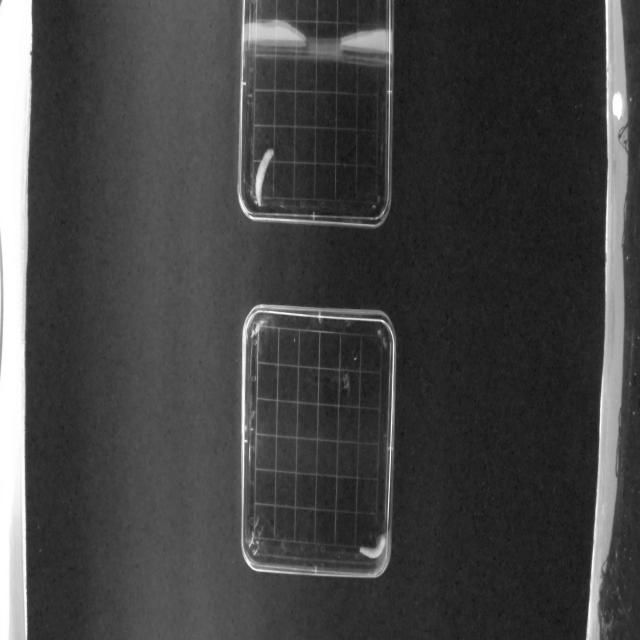larva: (253, 147, 276, 209), (358, 530, 386, 560)
